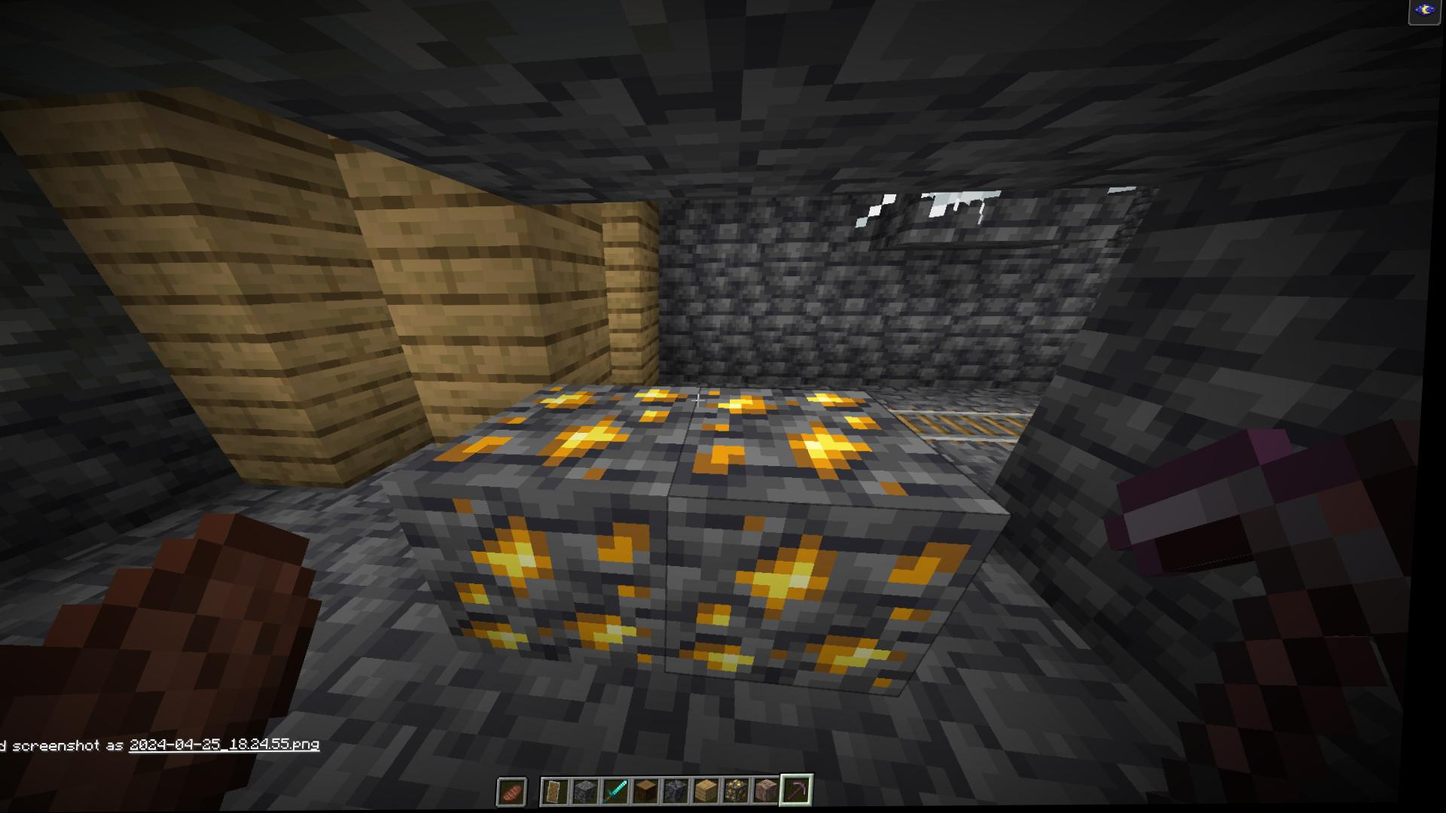gold ore: (684, 510, 978, 695), (417, 493, 677, 673), (693, 386, 927, 506), (446, 385, 696, 487)
